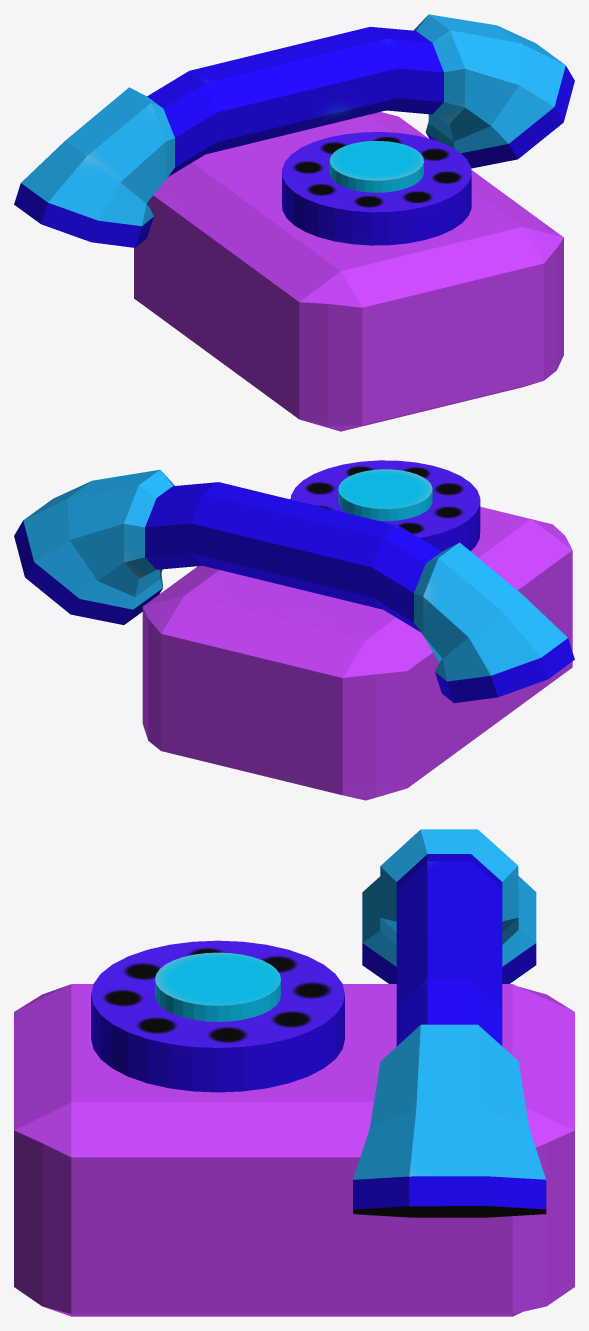
Rendered from phone.fbx.
The picture shows the model from 3 angles, top to bottom: view 1: azimuth 30°, elevation 25°; view 2: azimuth 150°, elevation 25°; view 3: azimuth 270°, elevation 25°; orthographic projection. The views are drawn at different scales.
Parts seen in each view (by area): view 1: Cube; view 2: Cube; view 3: Cube.
Boxes of the visible parts, bbox=[...] form: Cube: bbox=[14, 14, 574, 431]; Cube: bbox=[14, 460, 574, 800]; Cube: bbox=[14, 829, 574, 1316].
Size of the model in its own units: 402 by 182 by 275.
Materials: 1 (1 with a texture image).
